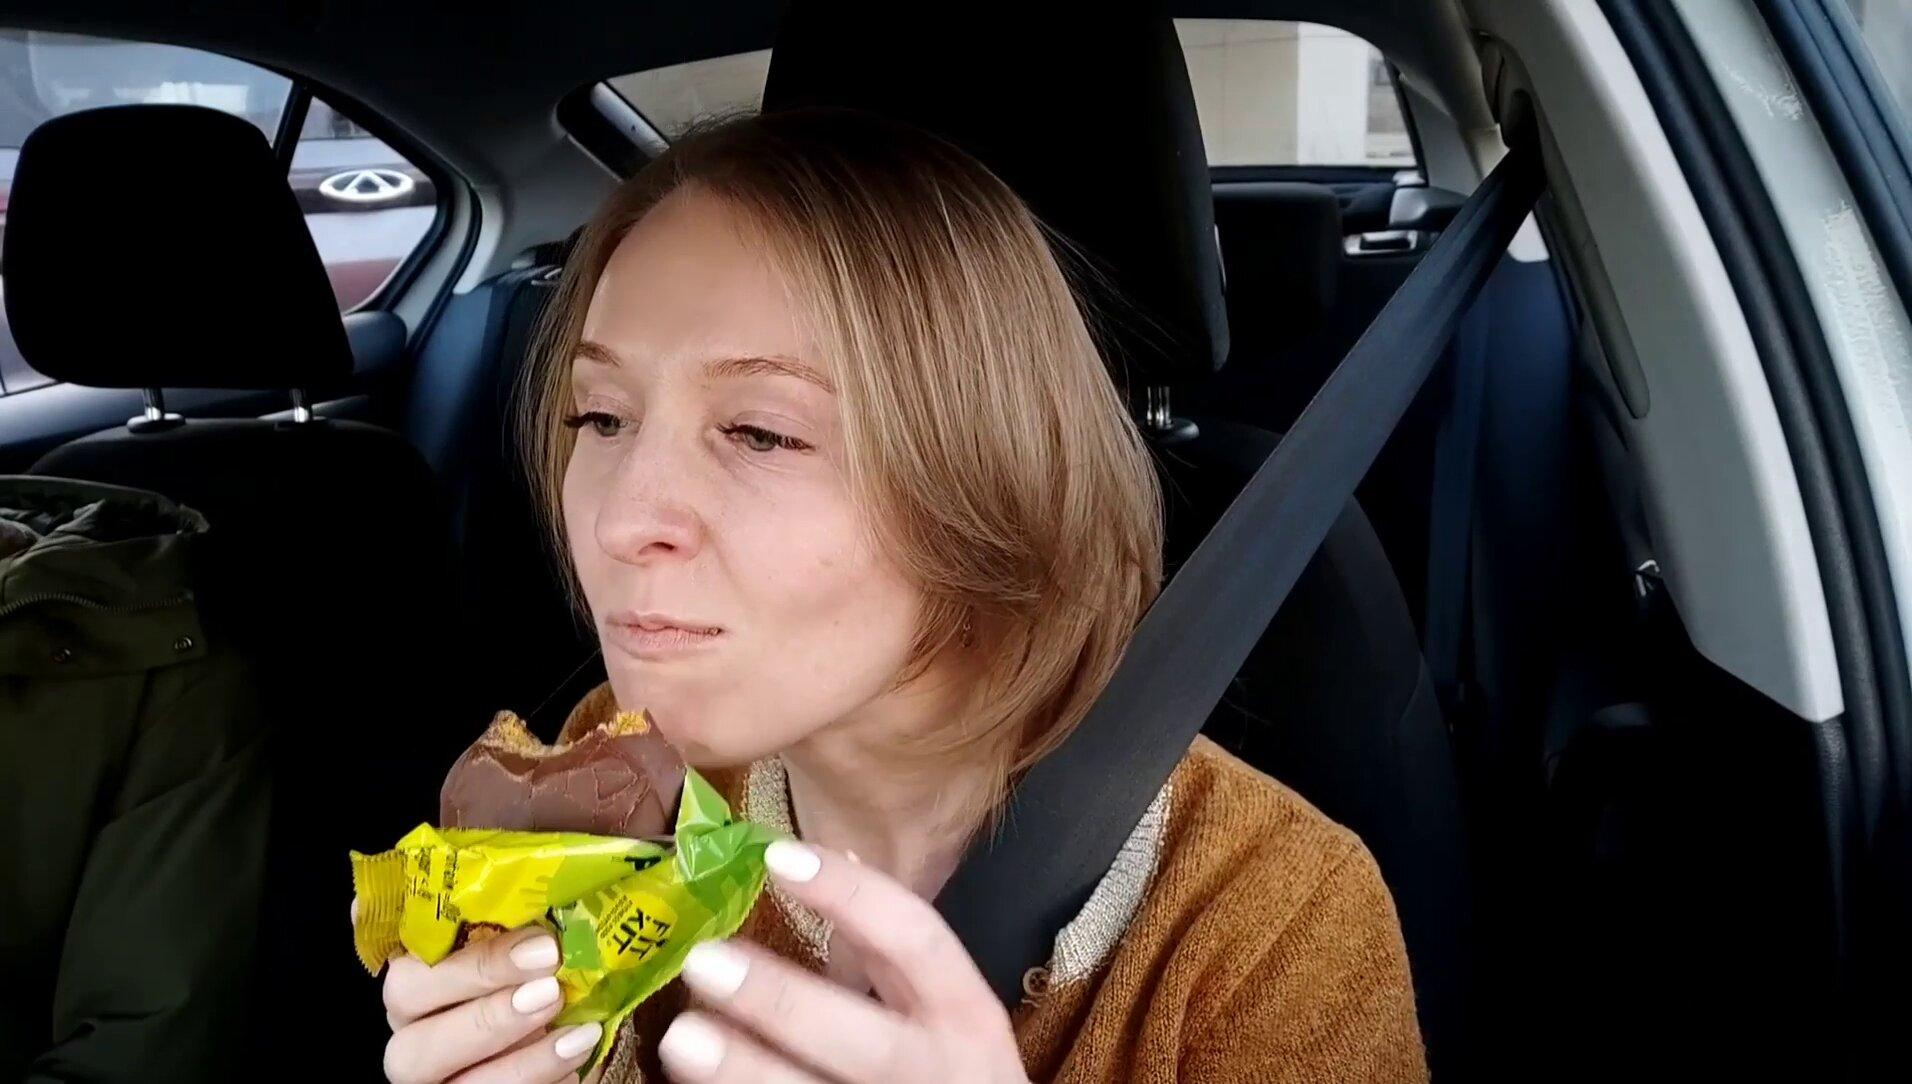Eating: (344, 687, 787, 1038)
